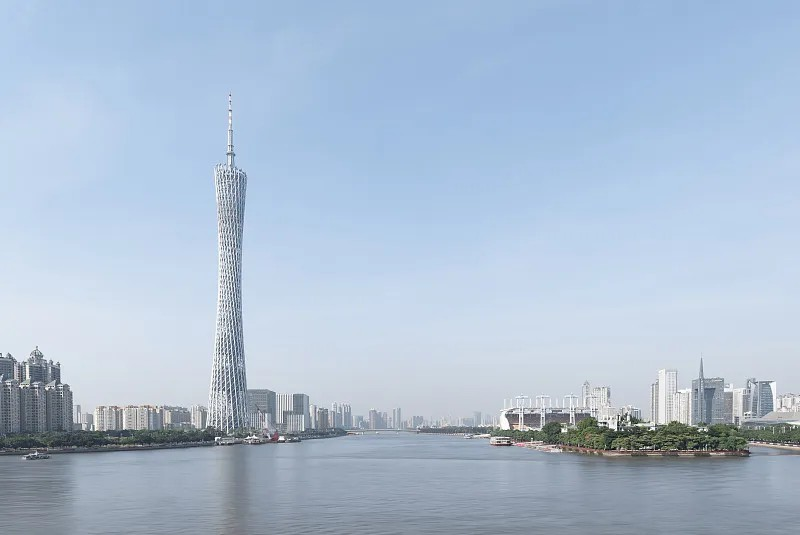Canton: (206, 92, 248, 435)
